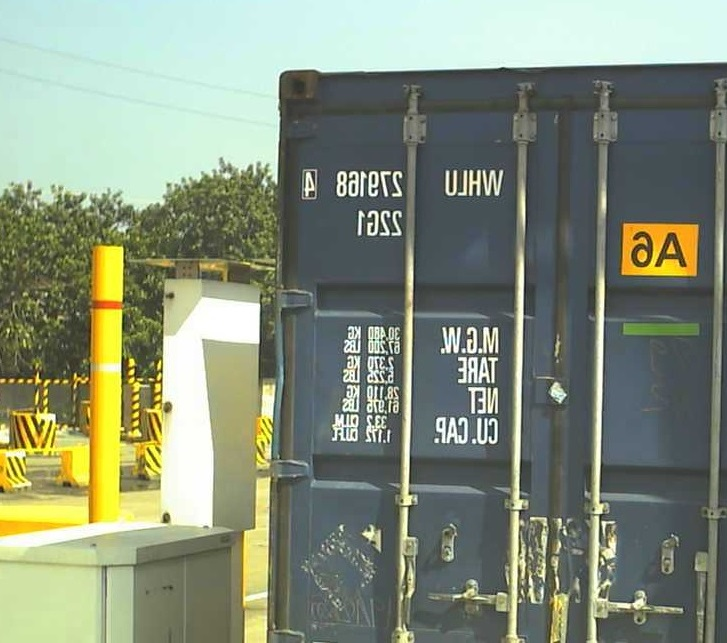container_no_door: (276, 64, 723, 643)
